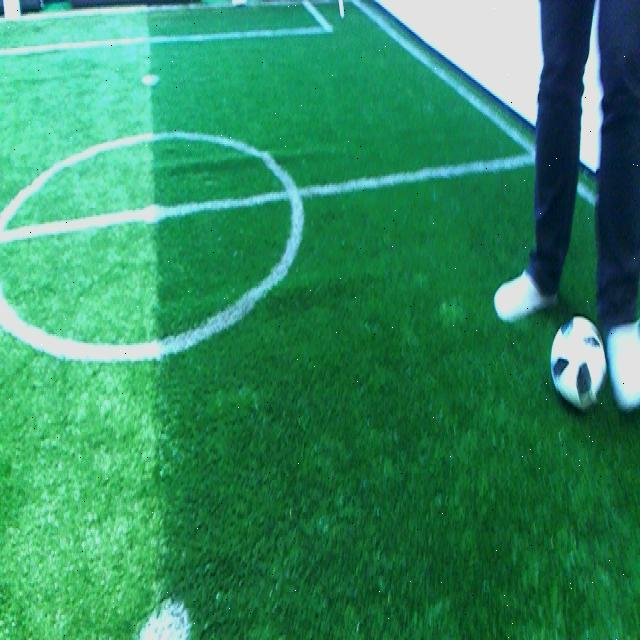ball: (551, 320, 606, 405)
